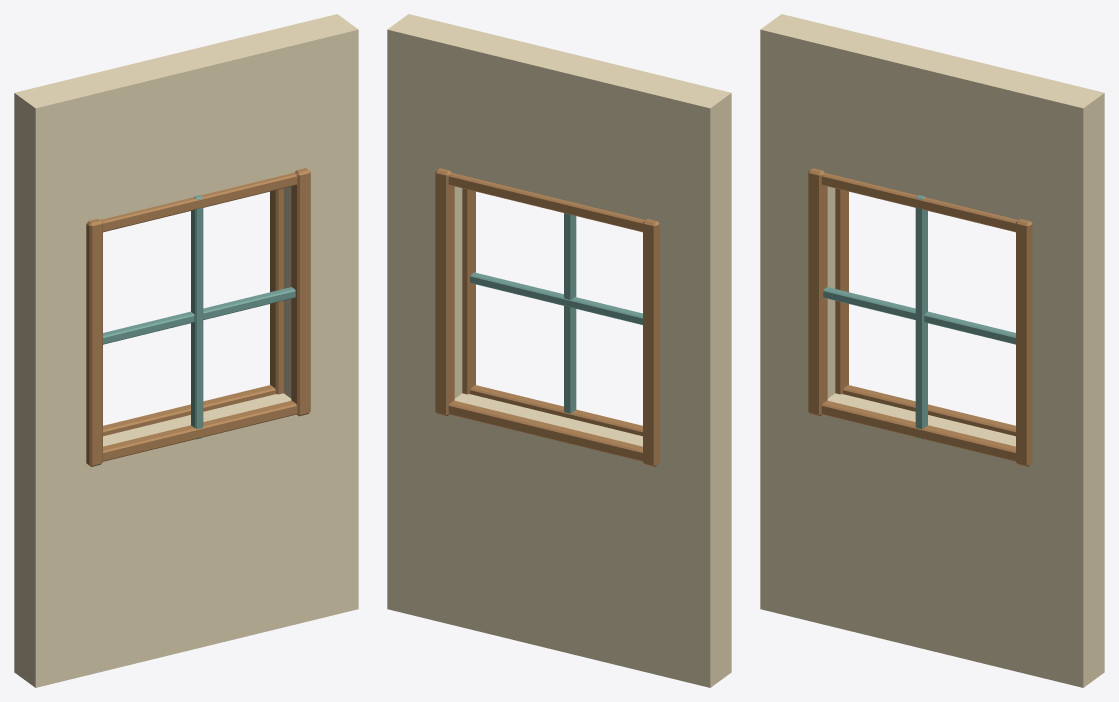
The picture shows the model from 3 angles, left to right: view 1: azimuth 30°, elevation 25°; view 2: azimuth 150°, elevation 25°; view 3: azimuth 330°, elevation 25°; orthographic projection.
Visible parts, largest first — view 1: dining-open-window-wall-01; view 2: dining-open-window-wall-01; view 3: dining-open-window-wall-01.
Part boxes in pixels (left/top/right/bottom): dining-open-window-wall-01: left=14, top=14, right=358, bottom=687; dining-open-window-wall-01: left=387, top=14, right=731, bottom=687; dining-open-window-wall-01: left=760, top=14, right=1104, bottom=687.
Size of the model in its own units: 1.4 by 2.4 by 0.22.
